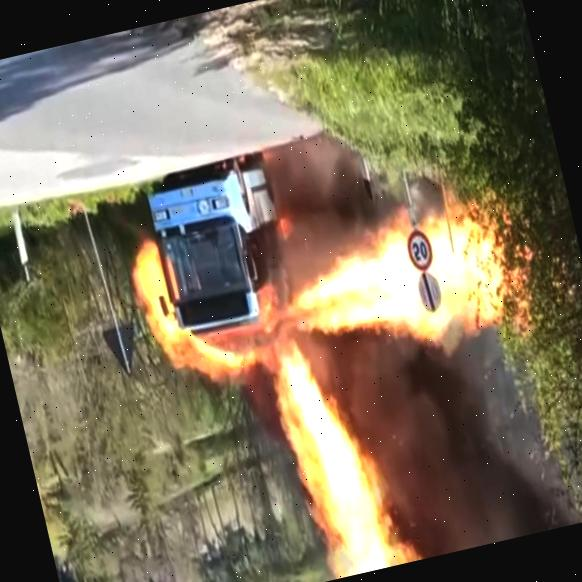smoke: (366, 338, 526, 560), (259, 114, 410, 275)
